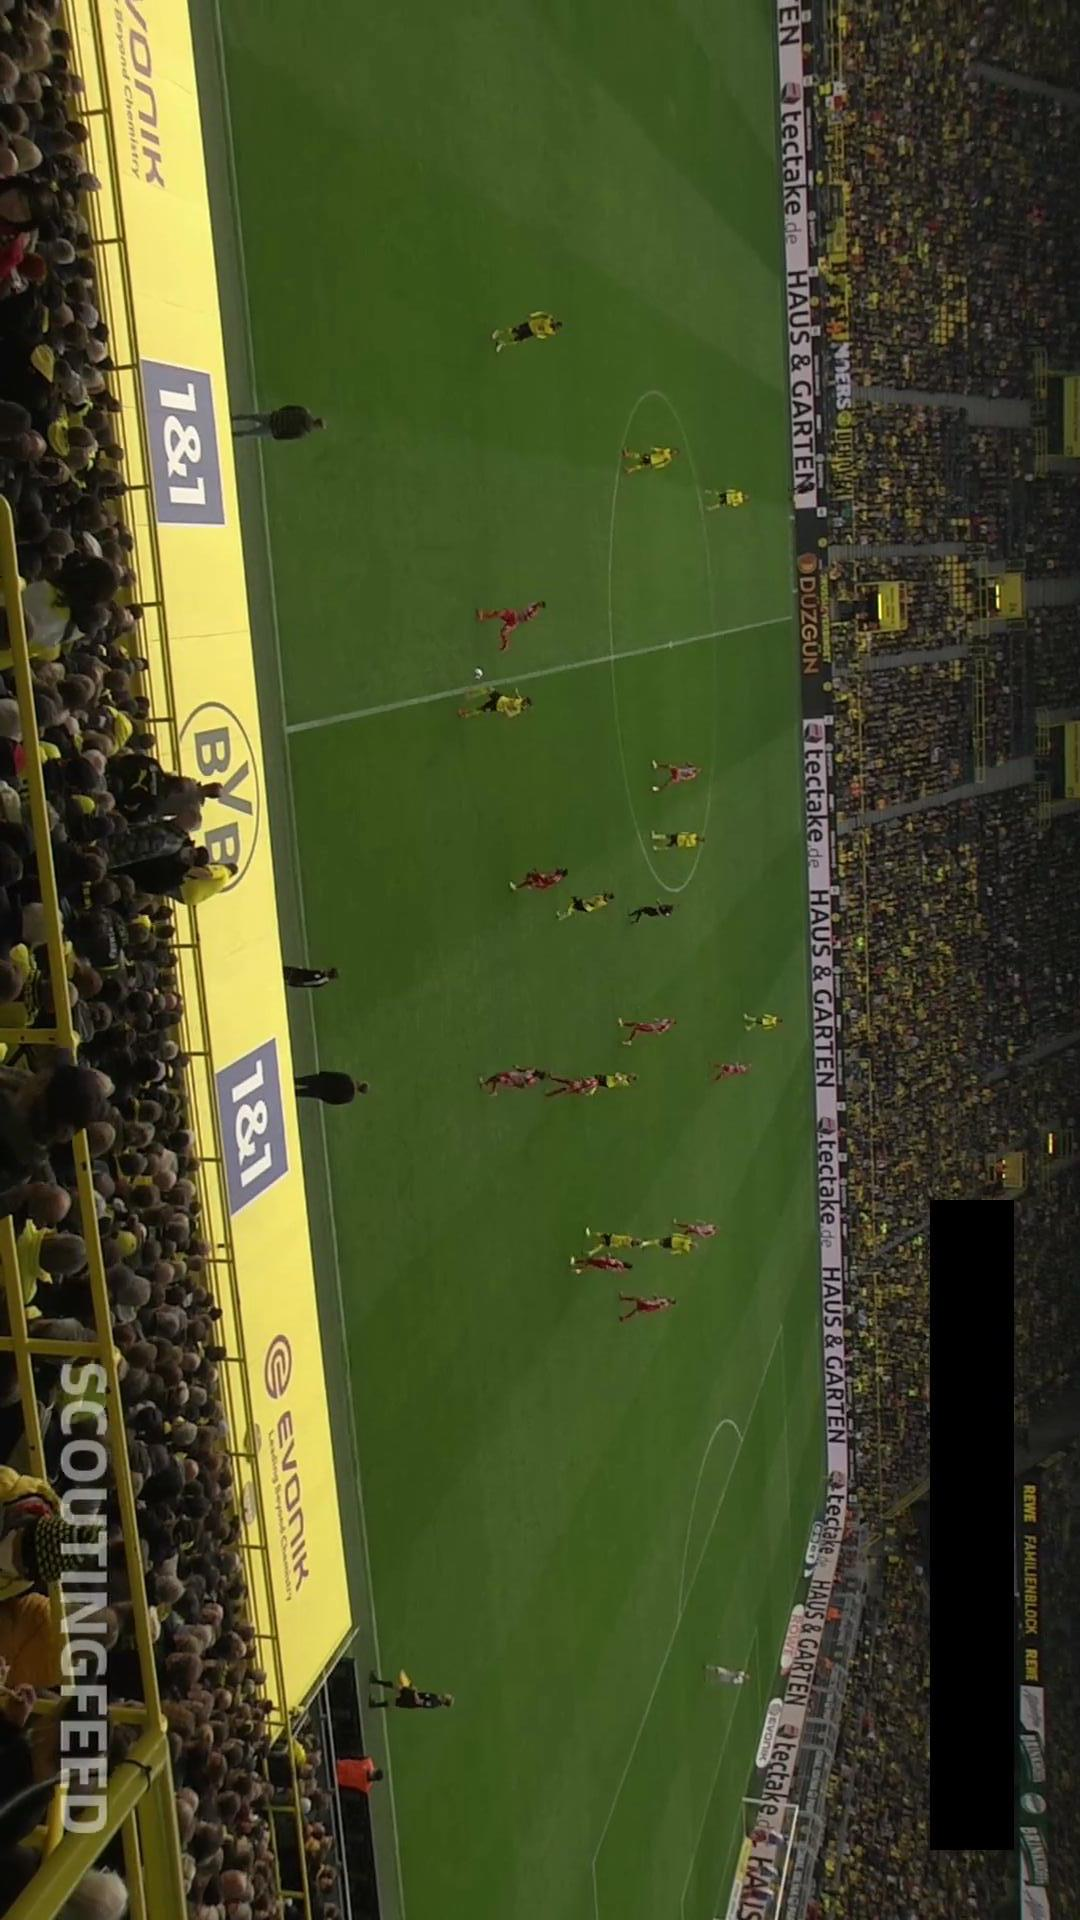ball: (470, 666, 486, 680)
goalkeeper: (704, 1664, 752, 1686)
player: (476, 600, 547, 651), (492, 311, 564, 354), (458, 687, 534, 720), (478, 1064, 547, 1095), (618, 1291, 678, 1323), (617, 1016, 678, 1046), (650, 759, 703, 793), (556, 891, 616, 921), (622, 446, 680, 476), (584, 1226, 640, 1257), (544, 1073, 603, 1100), (509, 867, 569, 892), (637, 1233, 699, 1257), (569, 1254, 634, 1274), (651, 830, 707, 852), (703, 488, 752, 512), (709, 1061, 753, 1084), (671, 1218, 720, 1238), (593, 1071, 639, 1090), (743, 1012, 784, 1031)
referee: (368, 1670, 455, 1710), (628, 900, 678, 925), (786, 482, 818, 500)
